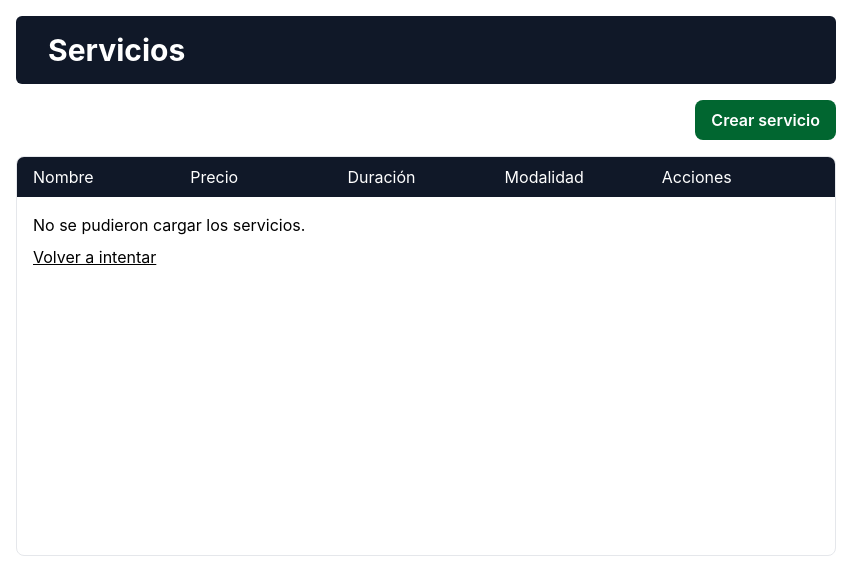
Test: AdministracionServicios › reintenta la carga y distingue una lista vacía de un error
Expected: the message shows "No se pudieron cargar", [33, 215, 305, 235]
Click the button "Volver a intentar": (95, 257) [33, 245, 156, 269]
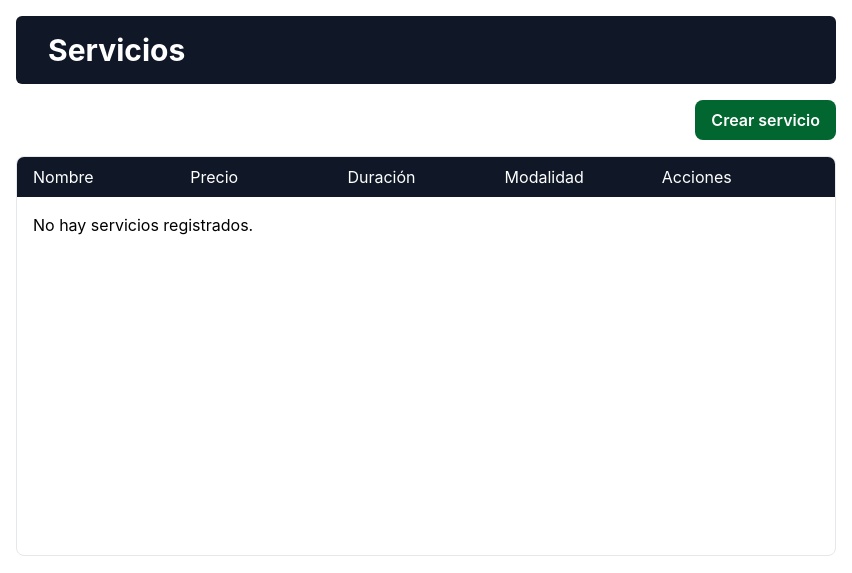
Expected: the text "No hay servicios registrados." is shown, [33, 215, 253, 235]
